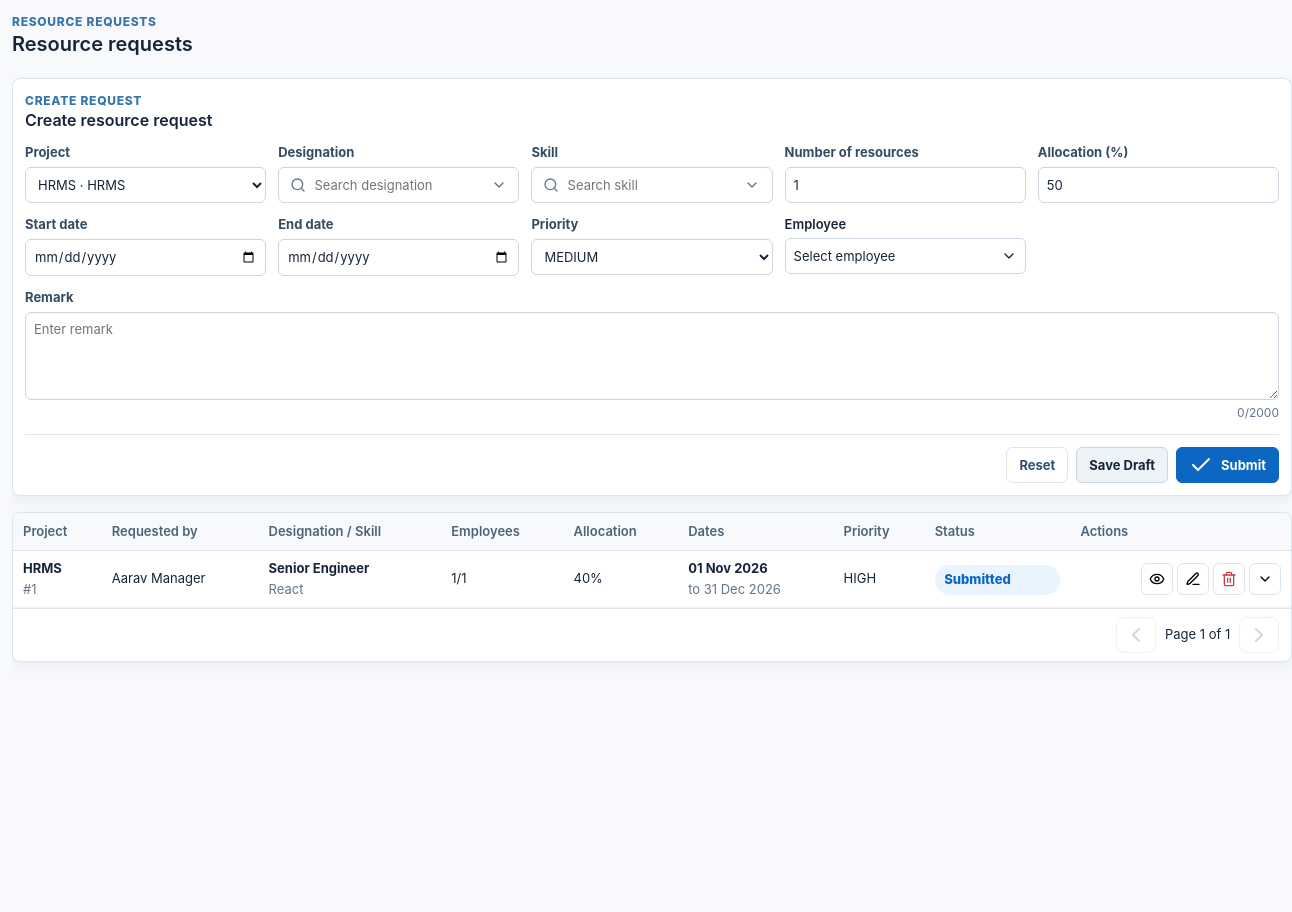
Test: Edit fetches the full request and auto-fills Designation, Skill, Employee and Remark
The image size is (1292, 912).
Click the button named "Edit request 1".
click(1193, 579)  # box x1=1177 y1=563 x2=1209 y2=595
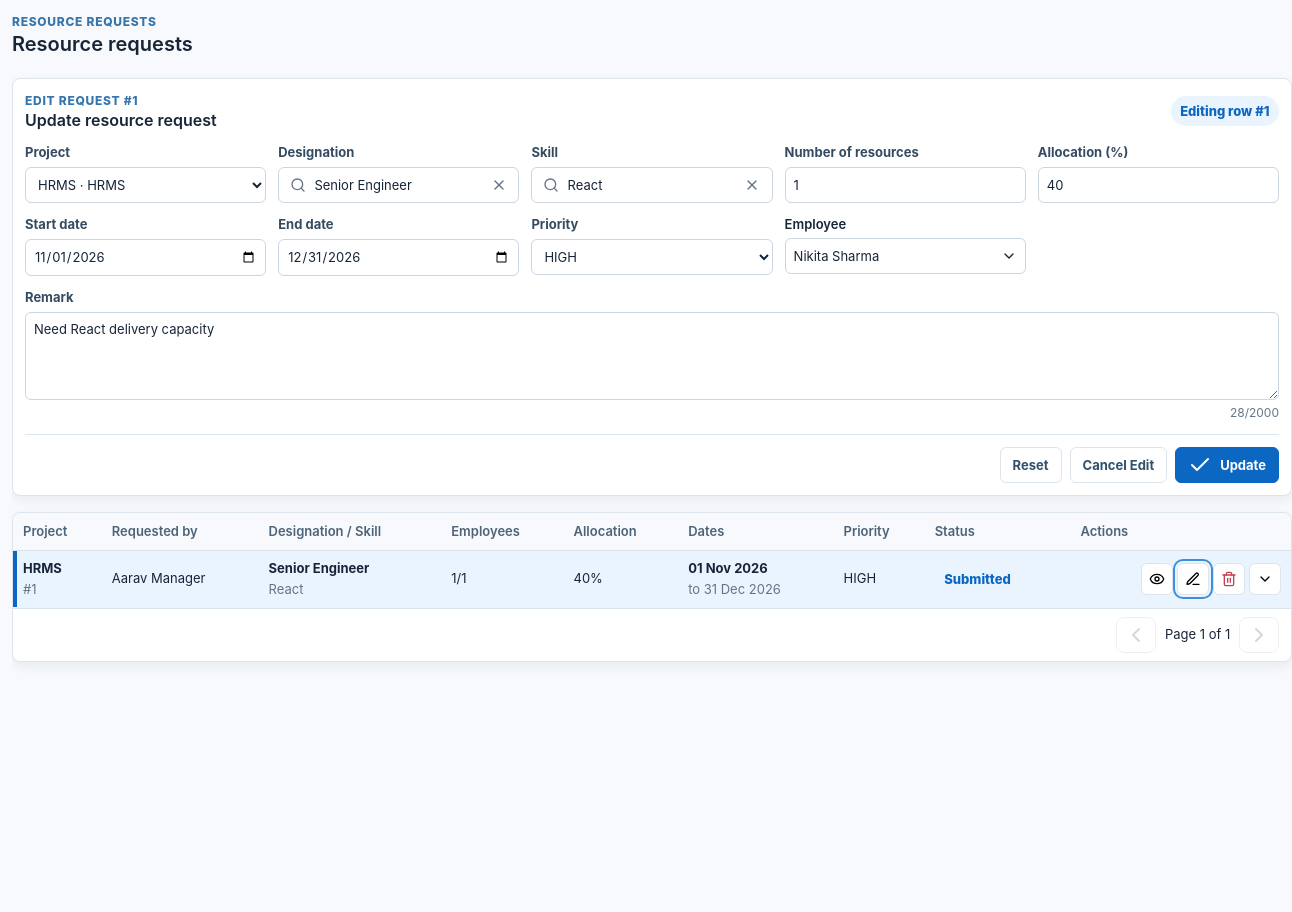
Expected: the heading "Update resource request" is shown, x1=25 y1=110 x2=217 y2=131
Expected: the field labelled "Designation" holds "Senior Engineer", x1=278 y1=167 x2=519 y2=203
Expected: the field labelled "Skill" holds "React", x1=531 y1=167 x2=773 y2=203
